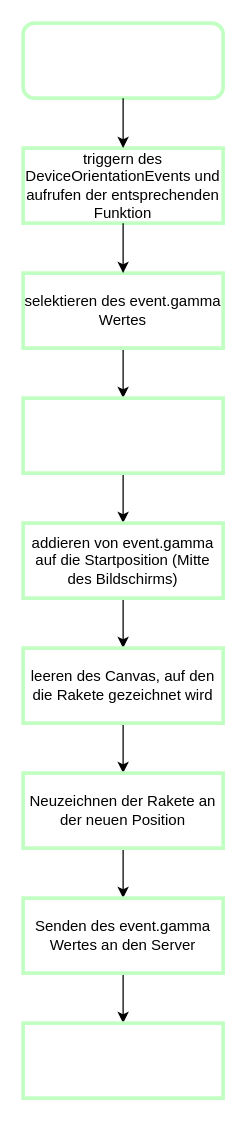
The diagram is 246 pixels wide and 1121 high, and some of its shapes have lost their labels. Here are the shapes that lost their labels. From the top down, the centre of each, then its label:
At pixel 122 60: "Spieler bewegt das Handy".
At pixel 122 435: "senden des Wertes an die move-Methode der Rocket-Klasse".
At pixel 122 1060: "Beim anderen Client die Rakete nach dem gleichen Prinzip neu zeichnen".
